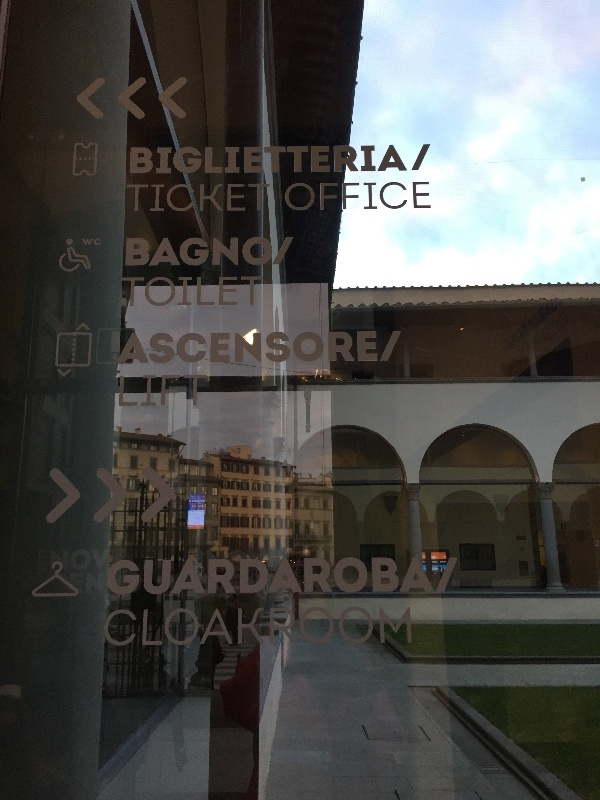text: (113, 605, 128, 651), (129, 605, 144, 651), (145, 605, 160, 651), (161, 605, 176, 651), (177, 605, 192, 651), (193, 605, 208, 651), (209, 605, 224, 651), (225, 605, 240, 651), (241, 605, 256, 651), (257, 605, 272, 651), (273, 605, 288, 651), (289, 605, 304, 651), (305, 605, 320, 651), (321, 605, 336, 651), (337, 605, 352, 651), (353, 605, 368, 651), (369, 605, 384, 651), (385, 605, 400, 651), (113, 556, 128, 601), (129, 556, 144, 601), (145, 556, 160, 601), (161, 556, 176, 601), (177, 556, 192, 601), (193, 556, 208, 601), (209, 556, 224, 601), (225, 556, 240, 601), (241, 556, 256, 601), (257, 556, 272, 601), (273, 556, 288, 601), (289, 556, 304, 601), (305, 556, 320, 601), (321, 556, 336, 601), (337, 556, 352, 601), (353, 556, 368, 601), (369, 556, 384, 601), (385, 556, 400, 601), (401, 556, 416, 601), (417, 556, 432, 601), (433, 556, 448, 601), (401, 605, 415, 651), (289, 177, 304, 219), (305, 177, 320, 219), (321, 177, 336, 219), (337, 177, 352, 219), (353, 177, 368, 219), (369, 177, 384, 219), (385, 177, 400, 219), (401, 177, 416, 219), (417, 177, 432, 219), (129, 274, 144, 314), (145, 274, 160, 314), (161, 274, 176, 314), (177, 274, 192, 314), (193, 274, 208, 314), (209, 274, 224, 314), (225, 274, 240, 314), (241, 274, 256, 314), (145, 138, 160, 177), (161, 138, 176, 177), (177, 138, 192, 177), (193, 138, 208, 177), (209, 138, 224, 177), (225, 138, 240, 177), (241, 138, 256, 177), (257, 138, 272, 177), (273, 138, 288, 177), (289, 138, 304, 177), (305, 138, 320, 177), (321, 138, 336, 177), (337, 138, 352, 177), (353, 138, 368, 177), (369, 138, 384, 177), (385, 138, 400, 177), (449, 556, 462, 601), (129, 235, 144, 272), (145, 235, 160, 272), (161, 235, 176, 272), (177, 235, 192, 272), (193, 235, 208, 272), (209, 235, 224, 272), (225, 235, 240, 272), (241, 235, 256, 272), (257, 235, 272, 272), (273, 235, 288, 272), (130, 138, 144, 177), (257, 182, 273, 216), (145, 329, 160, 365), (161, 329, 176, 365), (177, 329, 192, 365), (193, 329, 208, 365), (209, 329, 224, 365), (225, 329, 240, 365), (241, 329, 256, 365), (257, 329, 272, 365), (273, 329, 288, 365), (289, 329, 304, 365), (305, 329, 320, 365), (321, 329, 336, 365), (337, 329, 352, 365), (353, 329, 368, 365), (369, 329, 384, 365), (385, 329, 400, 365), (129, 374, 144, 409), (145, 374, 160, 409), (161, 374, 176, 409), (177, 374, 192, 409), (193, 374, 208, 409), (129, 182, 144, 216), (145, 182, 160, 216), (161, 182, 176, 216), (177, 182, 192, 216), (193, 182, 208, 216), (209, 182, 224, 216), (225, 182, 240, 216), (241, 182, 256, 216), (132, 329, 144, 365), (103, 605, 112, 651), (81, 569, 96, 596), (257, 274, 267, 314), (401, 138, 410, 177), (65, 549, 80, 572), (81, 549, 96, 572), (289, 235, 298, 272), (422, 141, 432, 174), (97, 549, 111, 572), (120, 274, 128, 314), (119, 374, 128, 409), (51, 549, 64, 572), (70, 569, 80, 596), (107, 556, 112, 601), (97, 569, 105, 596), (284, 177, 288, 219), (82, 238, 96, 247), (125, 235, 128, 272), (125, 182, 128, 216), (401, 329, 403, 365), (433, 177, 434, 219), (97, 238, 101, 247), (209, 374, 210, 409)
